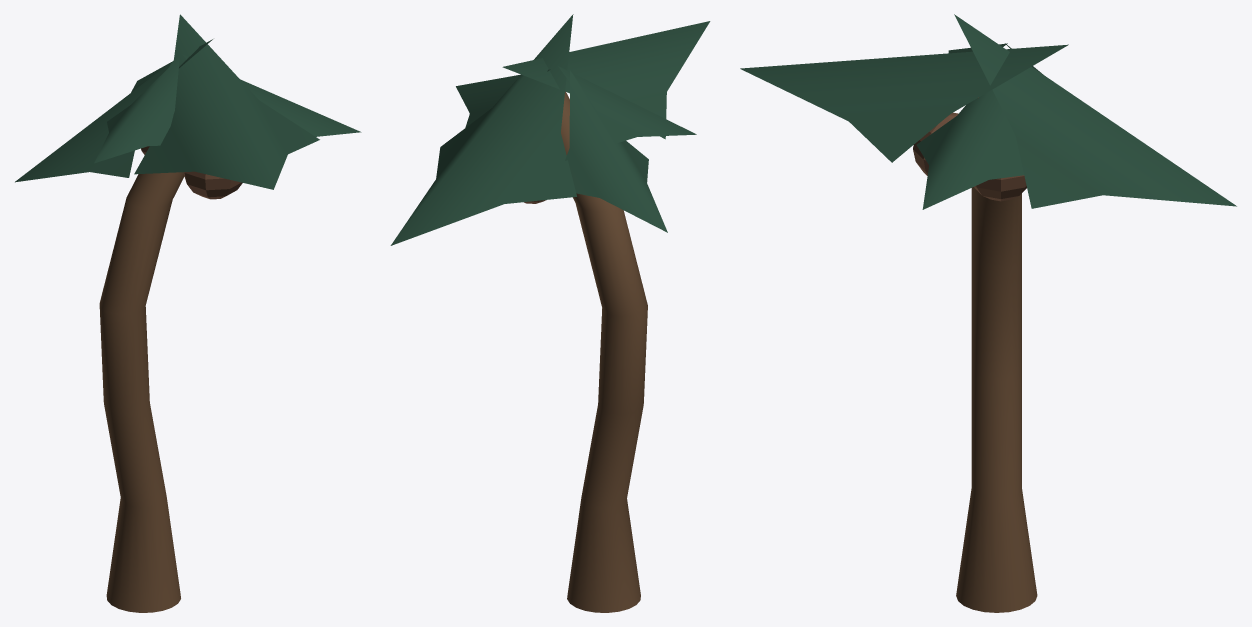
Rendered from BeachTreeFruit_Test.glb.
3 views of the same model, side by side, from view 1: azimuth 30°, elevation 25°; view 2: azimuth 150°, elevation 25°; view 3: azimuth 270°, elevation 25° (orthographic). The views are drawn at different scales.
Parts seen in each view (by area): view 1: BeachTreeBody, PickupFruit_01; view 2: BeachTreeBody; view 3: BeachTreeBody, PickupFruit_03.
Boxes of the visible parts, bbox=[...] form: BeachTreeBody: bbox=[15, 14, 361, 612]; PickupFruit_01: bbox=[183, 171, 242, 199]; BeachTreeBody: bbox=[390, 14, 710, 612]; BeachTreeBody: bbox=[740, 14, 1236, 612]; PickupFruit_03: bbox=[974, 175, 1026, 201].
Size of the model in its own units: 0.1909 by 0.3643 by 0.2702.
